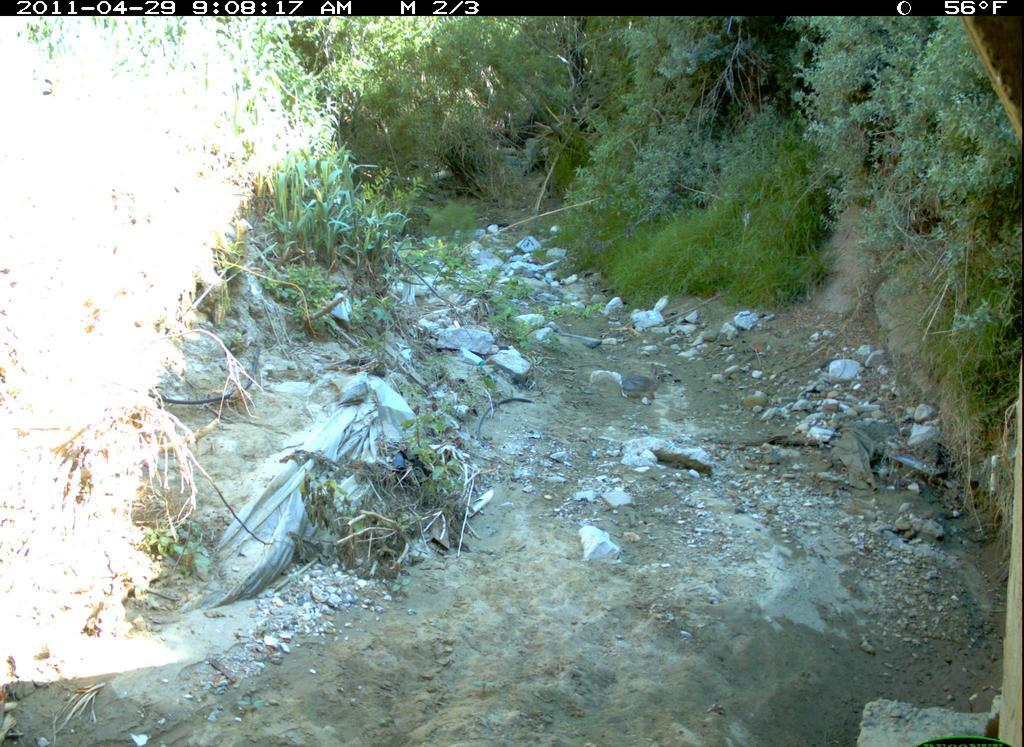rabbit: (617, 363, 670, 404)
